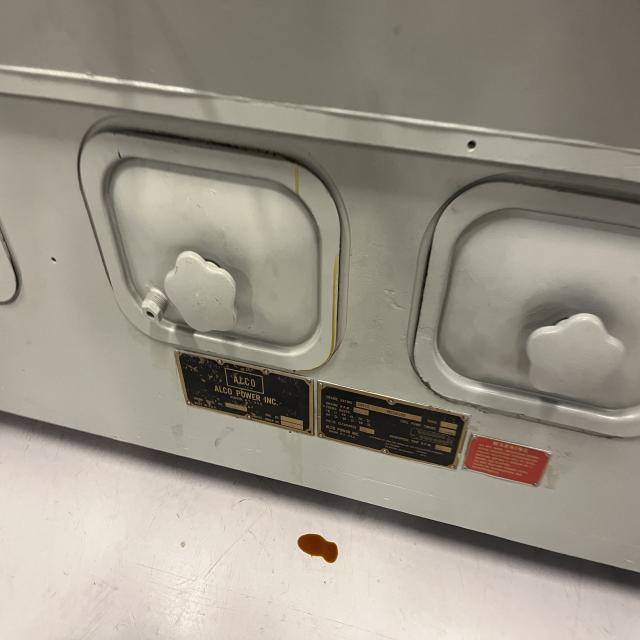Oil Leak: (321, 254, 341, 365), (294, 527, 343, 567), (295, 165, 299, 194)
